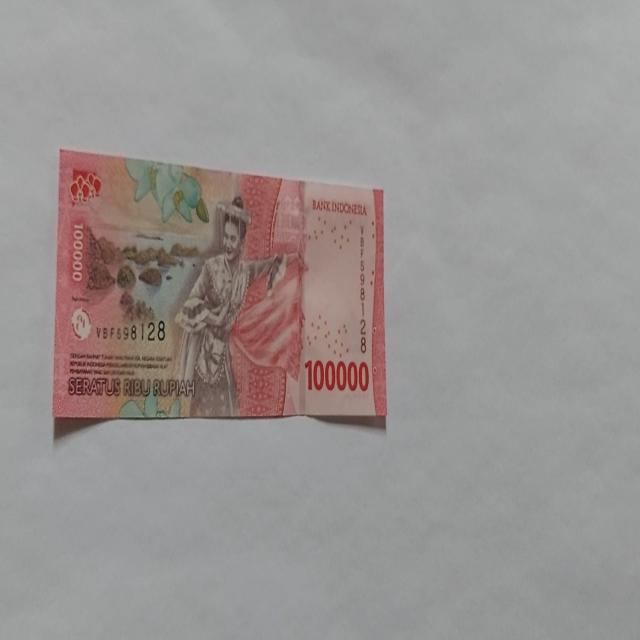seratus ribu rupiah: (52, 148, 388, 430), (172, 196, 292, 417)
